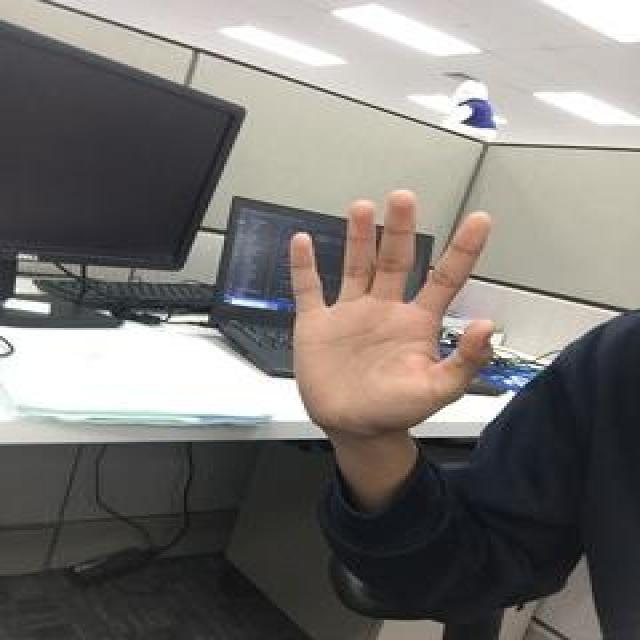no-gloves: (284, 184, 498, 436)
